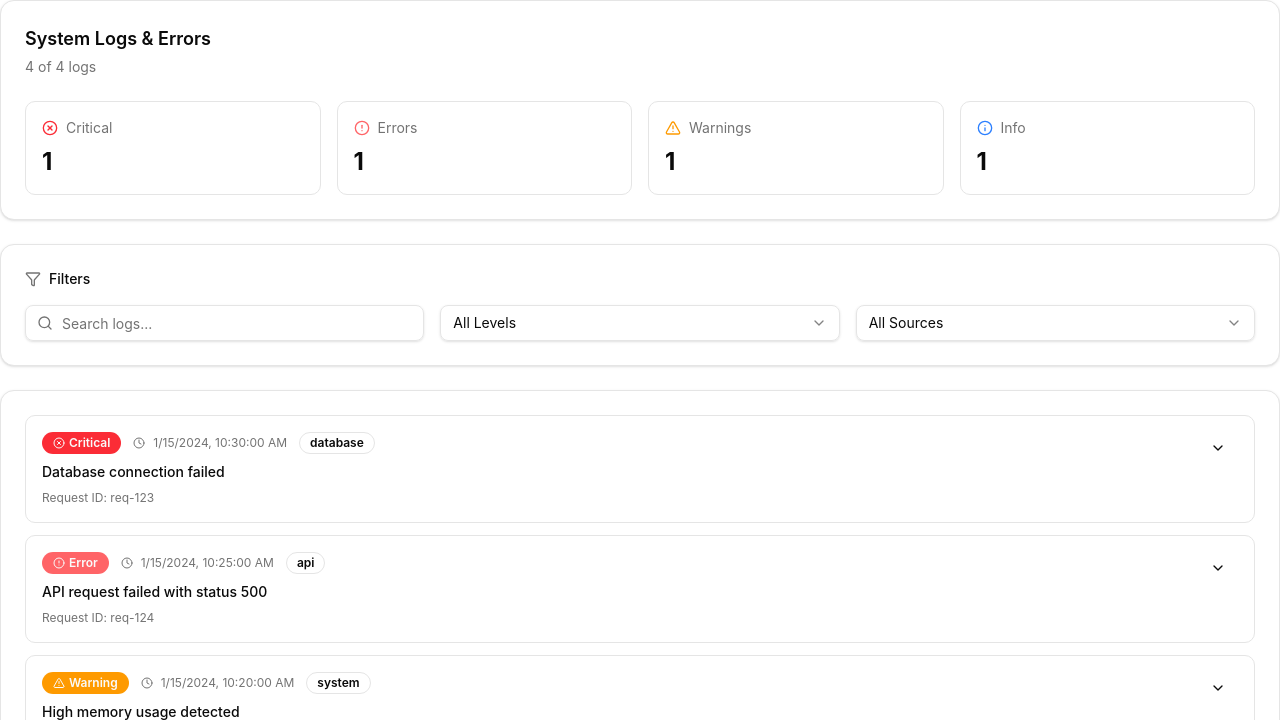
Test: ErrorLogs › shows empty state when filtered results are empty
The image size is (1280, 720).
Type "nonexistent" into the field with placeholder "Search logs...".
click(225, 323); type("nonexistent")  # box 25,305 -> 424,341
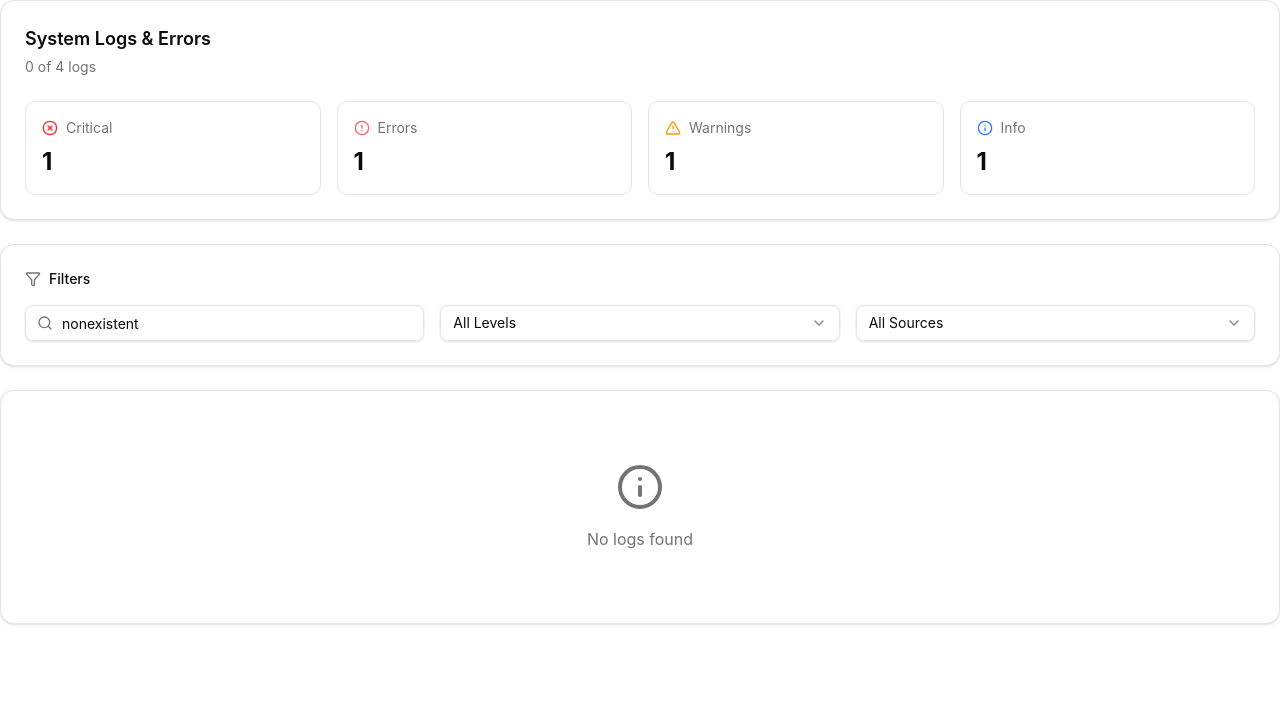
Now the text "No logs found" is shown, box 587,529 -> 693,549
